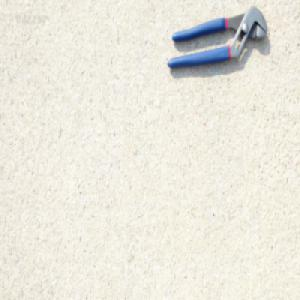Pliers: (166, 3, 268, 70)
